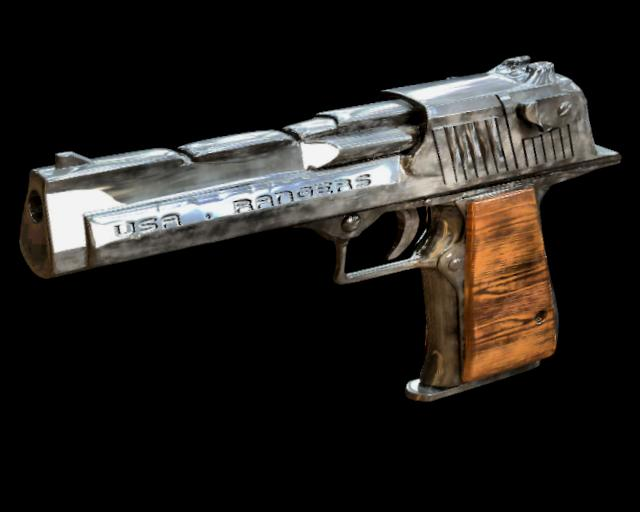pistol: (1, 21, 626, 451)
